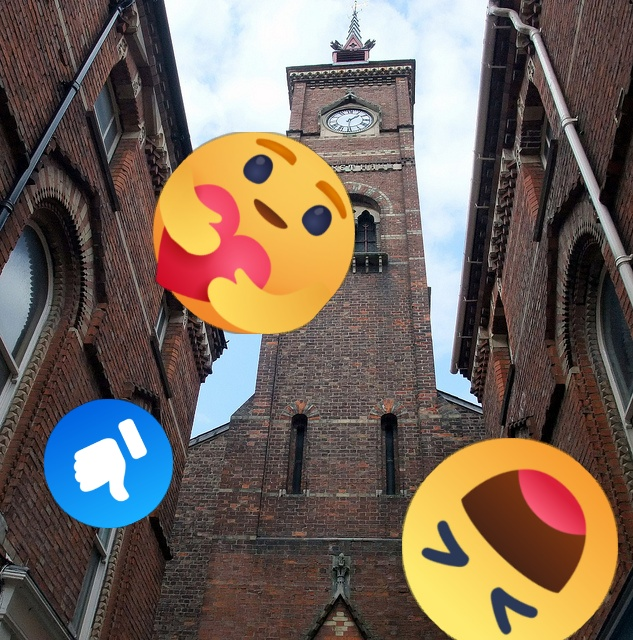care: (153, 132, 355, 334)
haha: (402, 438, 618, 640)
like: (44, 399, 173, 528)
